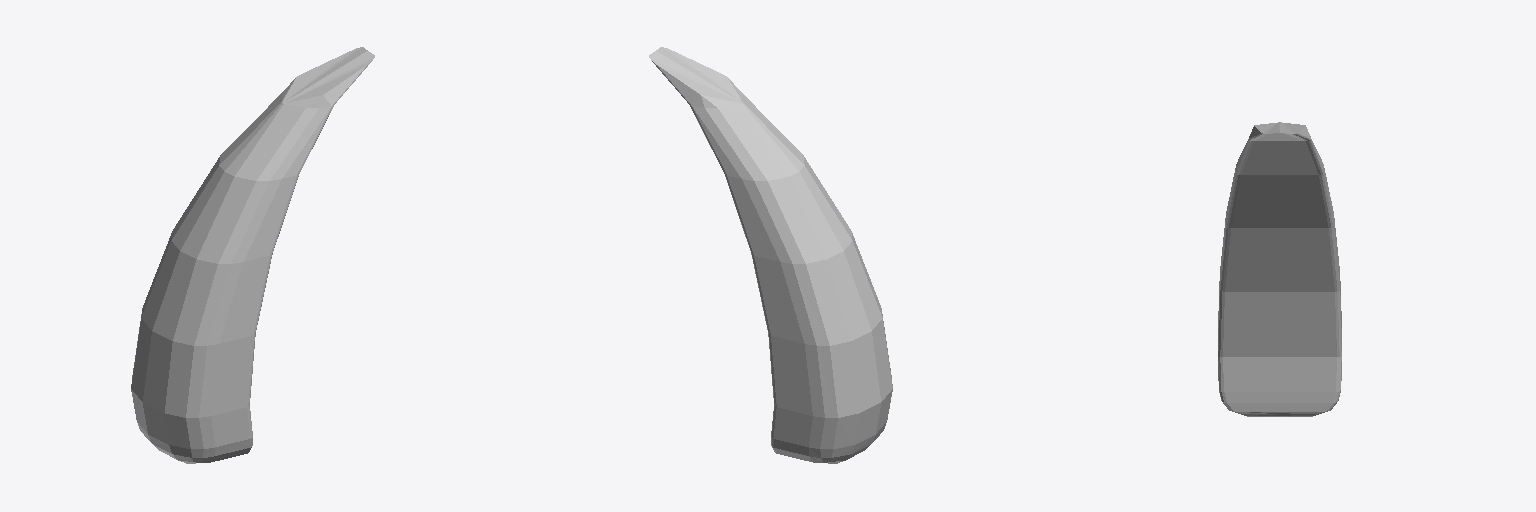
Rendered from character_duckArmRight.obj.
3 views of the same model, side by side, from view 1: azimuth 30°, elevation 25°; view 2: azimuth 150°, elevation 25°; view 3: azimuth 270°, elevation 25° (orthographic).
Visible parts, largest first — view 1: character_duckArmRight_Cube.5104; view 2: character_duckArmRight_Cube.5104; view 3: character_duckArmRight_Cube.5104.
Boxes of the visible parts, x1,y1,x2,y2 form: character_duckArmRight_Cube.5104: [131, 47, 374, 463]; character_duckArmRight_Cube.5104: [649, 47, 892, 463]; character_duckArmRight_Cube.5104: [1218, 122, 1341, 416].
Bounding box in the file's own units: 0.3802 × 0.5708 × 0.1812.